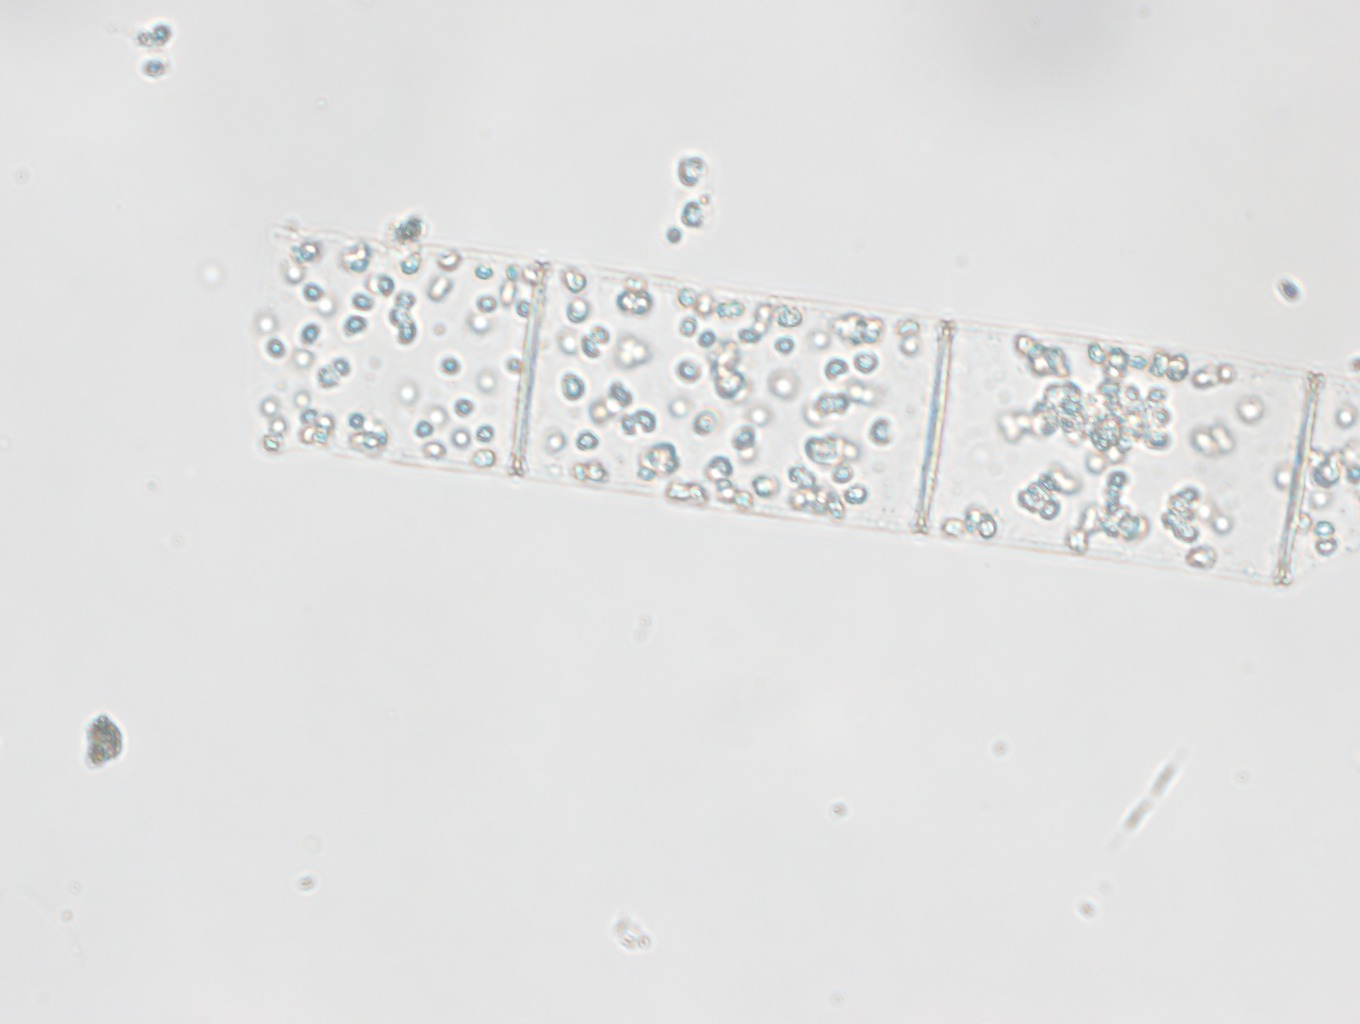guinardia flaccida: (244, 226, 1360, 583)
